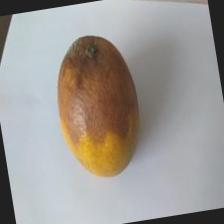Orange Rotten: (41, 24, 156, 189)
